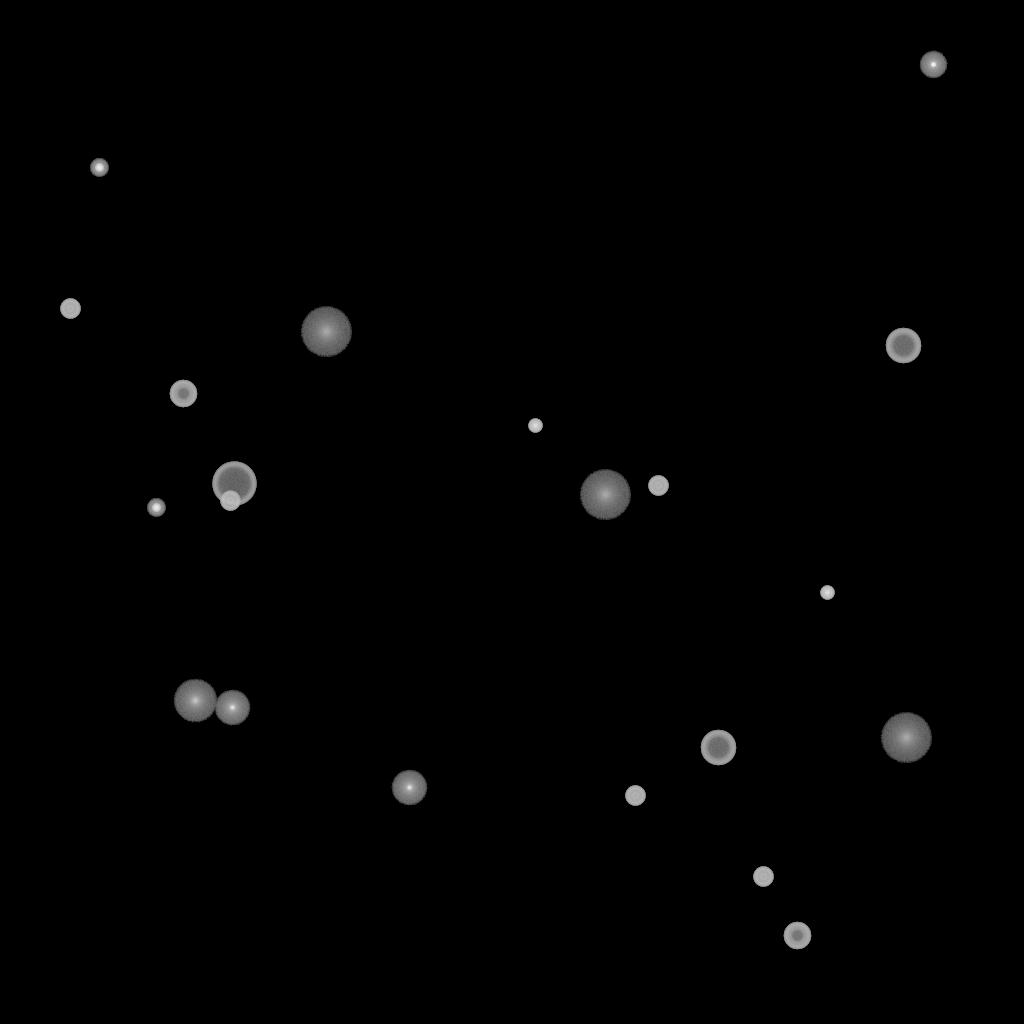depth:-10: (919, 51, 947, 79)
depth:-20: (90, 159, 108, 177), (147, 499, 165, 517)
depth:-30: (528, 419, 542, 433), (820, 586, 834, 600)
depth:-40: (648, 476, 668, 496), (625, 786, 645, 806), (753, 867, 773, 887), (60, 299, 80, 319), (220, 491, 240, 511)
depth:-50: (783, 922, 811, 950), (169, 380, 197, 408)
depth:-60: (885, 328, 921, 364), (700, 730, 736, 766)
depth:-70: (212, 462, 256, 506)
depth:0: (391, 770, 427, 806), (214, 690, 250, 726)
depth:10: (173, 679, 217, 723)
depth:20: (579, 470, 631, 520), (300, 307, 352, 357), (880, 713, 932, 763)
